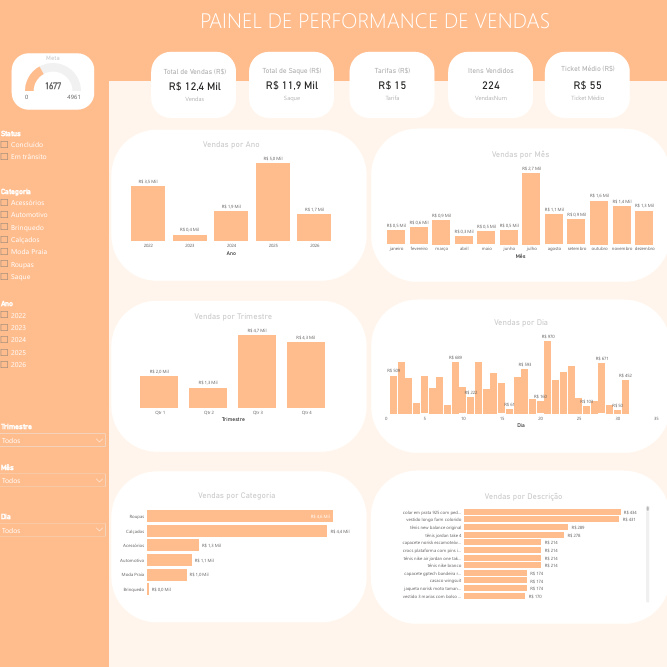

The dashboard page shown, as its layout file describes it:
{"tool":"powerbi","page":{"name":"Página 1","canvas":[1800,1800],"ordinal":0},"visuals":[{"type":"shape","box":[0,0,1800,220],"z":0},{"type":"shape","box":[0,0,302,1800],"z":1000},{"type":"slicer","fields":{"Values":["Sheet1.Categoria"]},"box":[0,495.6,302,264],"z":2000},{"type":"slicer","fields":{"Values":["Sheet1.Data.Variation.Hierarquia de datas.Ano"]},"box":[0,797.2,302,290],"z":3000},{"type":"slicer","fields":{"Values":["Sheet1.Status"]},"box":[0,342,302,116],"z":4000},{"type":"slicer","fields":{"Values":["Sheet1.Data.Variation.Hierarquia de datas.Trimestre"]},"box":[0,1124.8,302,70],"z":5000},{"type":"slicer","fields":{"Values":["Sheet1.Data.Variation.Hierarquia de datas.Mês"]},"box":[0,1232.4,302,94],"z":6000},{"type":"slicer","fields":{"Values":["Sheet1.Data.Variation.Hierarquia de datas.Dia"]},"box":[0,1364,302,98],"z":7000},{"type":"group","id":"g1","title":"Grupo 1","box":[413.6,141.3,226,176],"z":9000},{"type":"group","id":"g2","title":"Grupo 2","box":[671.1,141.3,236,176],"z":10000},{"type":"group","id":"g3","title":"Grupo 3","box":[938.6,141.3,236,176],"z":11000},{"type":"group","id":"g4","title":"Grupo 4","box":[1206.1,141.3,226,176],"z":12000},{"type":"group","id":"g5","title":"Grupo 5","box":[1463.6,141.3,226,176],"z":13000},{"type":"textbox","box":[262.5,12.5,1497.5,127.5],"z":14000},{"type":"group","id":"g6","title":"Grupo 6","box":[41.7,145,220,150],"z":15000},{"type":"group","id":"g7","title":"Grupo 7","box":[1001,345.8,796.7,408.3],"z":16000},{"type":"group","id":"g8","title":"Grupo 8","box":[308,349.2,680,401.7],"z":17000},{"type":"shape","box":[1206.1,141.3,226,176],"z":18000,"group":"g4"},{"type":"group","id":"g9","title":"Grupo 9","box":[308,805.4,680,400],"z":18000},{"type":"group","id":"g10","title":"Grupo 10","box":[1001.3,802.1,796,408],"z":19000},{"type":"shape","box":[413.6,141.3,226,176],"z":20000,"group":"g1"},{"type":"group","id":"g11","title":"Grupo 1","box":[675.1,141.3,226,176],"z":20000,"group":"g2"},{"type":"shape","box":[675.1,141.3,226,176],"z":20000,"group":"g11"},{"type":"shape","box":[942.6,141.3,226,176],"z":20000,"group":"g3"},{"type":"group","id":"g12","title":"Grupo 11","box":[308,1260,680,402],"z":20000},{"type":"shape","box":[1463.6,141.3,226,176],"z":21000,"group":"g5"},{"type":"shape","box":[41.7,145,220,150],"z":21000,"group":"g6"},{"type":"card","title":"Total de Saque (R$)","fields":{"Values":["Sheet1.Saque"]},"box":[671.1,179.3,236,100],"z":21000,"group":"g2"},{"type":"shape","box":[1001,345.8,796.7,408.3],"z":21000,"group":"g20"},{"type":"group","id":"g13","title":"Grupo 6","box":[308,349.2,680,401.7],"z":21000,"group":"g8"},{"type":"shape","box":[308,349.2,680,401.7],"z":21000,"group":"g13"},{"type":"shape","box":[1001.3,802.1,796.7,408.3],"z":21000,"group":"g21"},{"type":"group","id":"g14","title":"Grupo 8","box":[308,805.4,680,401.7],"z":21000,"group":"g9"},{"type":"group","id":"g15","title":"Grupo 6","box":[308,805.4,680,401.7],"z":21000,"group":"g14"},{"type":"shape","box":[308,805.4,680,401.7],"z":21000,"group":"g15"},{"type":"group","id":"g16","title":"Grupo 10","box":[1000.3,1258,796.7,408.3],"z":21000,"group":"g19"},{"type":"shape","box":[1000.3,1258,796.7,408.3],"z":21000,"group":"g22"},{"type":"group","id":"g17","title":"Grupo 8","box":[308,1260,680,401.7],"z":21000,"group":"g12"},{"type":"group","id":"g18","title":"Grupo 6","box":[308,1260,680,401.7],"z":21000,"group":"g17"},{"type":"shape","box":[308,1260,680,401.7],"z":21000,"group":"g18"},{"type":"card","title":"Total de Vendas (R$)","fields":{"Values":["Sheet1.Vendas"]},"box":[433.6,181.3,192,100],"z":21500,"group":"g1"},{"type":"card","title":"Tarifas (R$)","fields":{"Values":["Sheet1.Tarifa"]},"box":[938.6,179.3,236,100],"z":21501,"group":"g3"},{"type":"card","title":"Itens Vendidos","fields":{"Values":["Sheet1.VendasNum"]},"box":[1232.1,179.3,176,100],"z":22000,"group":"g4"},{"type":"clusteredColumnChart","fields":{"Category":["Sheet1.Data.Variation.Hierarquia de datas.Ano","Sheet1.Data.Variation.Hierarquia de datas.Trimestre","Sheet1.Data.Variation.Hierarquia de datas.Mês","Sheet1.Data.Variation.Hierarquia de datas.Dia"],"Y":["Sheet1.Vendas"]},"box":[356.1,374.3,543.3,315],"z":22000,"group":"g8"},{"type":"clusteredColumnChart","fields":{"Category":["Sheet1.Data.Variation.Hierarquia de datas.Trimestre","Sheet1.Data.Variation.Hierarquia de datas.Mês","Sheet1.Data.Variation.Hierarquia de datas.Dia"],"Y":["Sheet1.Vendas"]},"box":[328,833.9,610,300],"z":22000,"group":"g9"},{"type":"clusteredBarChart","fields":{"Category":["Sheet1.Descrição"],"Y":["Sheet1.Vendas"]},"box":[1067.6,1314,680,300],"z":22000,"group":"g19"},{"type":"group","id":"g19","title":"Grupo 12","box":[1000.3,1258,796.7,408.3],"z":22001},{"type":"gauge","title":"Meta","fields":{"Y":["Sheet1.2026"],"MaxValue":["Sheet1.2025"]},"box":[56.7,146.7,190,135],"z":22500,"group":"g6"},{"type":"card","title":"Ticket Médio (R$)","fields":{"Values":["Sheet1.Ticket Médio"]},"box":[1489.6,173.3,176,112],"z":22500,"group":"g5"},{"type":"group","id":"g20","title":"Grupo 6","box":[1001,345.8,796.7,408.3],"z":23000,"group":"g7"},{"type":"group","id":"g21","title":"Grupo 6","box":[1001.3,802.1,796.7,408.3],"z":23000,"group":"g10"},{"type":"group","id":"g22","title":"Grupo 6","box":[1000.3,1258,796.7,408.3],"z":23000,"group":"g16"},{"type":"clusteredColumnChart","fields":{"Category":["Sheet1.Data.Variation.Hierarquia de datas.Mês","Sheet1.Data.Variation.Hierarquia de datas.Dia"],"Y":["Sheet1.Vendas"]},"box":[1014.9,400.5,768.3,297.1],"z":23500,"group":"g7"},{"type":"clusteredColumnChart","fields":{"Category":["Sheet1.Data.Variation.Hierarquia de datas.Dia"],"Y":["Sheet1.Vendas"]},"box":[1024.8,849.9,750,300],"z":23500,"group":"g10"},{"type":"clusteredBarChart","fields":{"Category":["Sheet1.Categoria"],"Y":["Sheet1.Vendas"]},"box":[322.1,1311.5,640,300],"z":24001,"group":"g12"}]}

Visuals, with their boxes in screenshot pixels (x1, y1, x2, y2), scaled from the page's 1800x1800 canvas onto the 667x667 screenshot:
shape: select_region(0, 0, 666, 82)
shape: select_region(0, 0, 112, 666)
slicer - Sheet1.Categoria: select_region(0, 184, 112, 281)
slicer - Sheet1.Data.Variation.Hierarquia de datas.Ano: select_region(0, 295, 112, 403)
slicer - Sheet1.Status: select_region(0, 127, 112, 170)
slicer - Sheet1.Data.Variation.Hierarquia de datas.Trimestre: select_region(0, 417, 112, 443)
slicer - Sheet1.Data.Variation.Hierarquia de datas.Mês: select_region(0, 457, 112, 492)
slicer - Sheet1.Data.Variation.Hierarquia de datas.Dia: select_region(0, 505, 112, 542)
"Grupo 1" group: select_region(153, 52, 237, 118)
"Grupo 2" group: select_region(249, 52, 336, 118)
"Grupo 3" group: select_region(348, 52, 435, 118)
"Grupo 4" group: select_region(447, 52, 531, 118)
"Grupo 5" group: select_region(542, 52, 626, 118)
textbox: select_region(97, 5, 652, 52)
"Grupo 6" group: select_region(15, 54, 97, 109)
"Grupo 7" group: select_region(371, 128, 666, 279)
"Grupo 8" group: select_region(114, 129, 366, 278)
shape: select_region(447, 52, 531, 118)
"Grupo 9" group: select_region(114, 298, 366, 447)
"Grupo 10" group: select_region(371, 297, 666, 448)
shape: select_region(153, 52, 237, 118)
"Grupo 1" group: select_region(250, 52, 334, 118)
shape: select_region(250, 52, 334, 118)
shape: select_region(349, 52, 433, 118)
"Grupo 11" group: select_region(114, 467, 366, 616)
shape: select_region(542, 52, 626, 118)
shape: select_region(15, 54, 97, 109)
"Total de Saque (R$)" card: select_region(249, 66, 336, 103)
shape: select_region(371, 128, 666, 279)
"Grupo 6" group: select_region(114, 129, 366, 278)
shape: select_region(114, 129, 366, 278)
shape: select_region(371, 297, 666, 449)
"Grupo 8" group: select_region(114, 298, 366, 447)
"Grupo 6" group: select_region(114, 298, 366, 447)
shape: select_region(114, 298, 366, 447)
"Grupo 10" group: select_region(371, 466, 666, 617)
shape: select_region(371, 466, 666, 617)
"Grupo 8" group: select_region(114, 467, 366, 616)
"Grupo 6" group: select_region(114, 467, 366, 616)
shape: select_region(114, 467, 366, 616)
"Total de Vendas (R$)" card: select_region(161, 67, 232, 104)
"Tarifas (R$)" card: select_region(348, 66, 435, 103)
"Itens Vendidos" card: select_region(457, 66, 522, 103)
clusteredColumnChart - Sheet1.Data.Variation.Hierarquia de datas.Ano x Sheet1.Data.Variation.Hierarquia de datas.Trimestre: select_region(132, 139, 333, 255)
clusteredColumnChart - Sheet1.Data.Variation.Hierarquia de datas.Trimestre x Sheet1.Data.Variation.Hierarquia de datas.Mês: select_region(122, 309, 348, 420)
clusteredBarChart - Sheet1.Descrição x Sheet1.Vendas: select_region(396, 487, 648, 598)
"Grupo 12" group: select_region(371, 466, 666, 617)
"Meta" gauge: select_region(21, 54, 91, 104)
"Ticket Médio (R$)" card: select_region(552, 64, 617, 106)
"Grupo 6" group: select_region(371, 128, 666, 279)
"Grupo 6" group: select_region(371, 297, 666, 449)
"Grupo 6" group: select_region(371, 466, 666, 617)
clusteredColumnChart - Sheet1.Data.Variation.Hierarquia de datas.Mês x Sheet1.Data.Variation.Hierarquia de datas.Dia: select_region(376, 148, 661, 258)
clusteredColumnChart - Sheet1.Data.Variation.Hierarquia de datas.Dia x Sheet1.Vendas: select_region(380, 315, 658, 426)
clusteredBarChart - Sheet1.Categoria x Sheet1.Vendas: select_region(119, 486, 357, 597)
